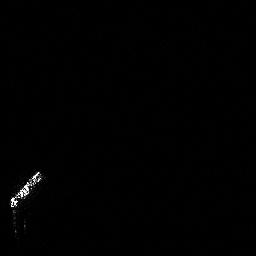ship: (4, 167, 49, 211)
